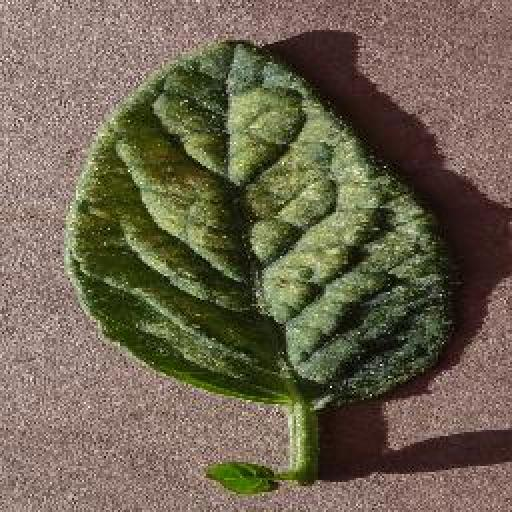disease_tomato: (70, 38, 462, 412)
